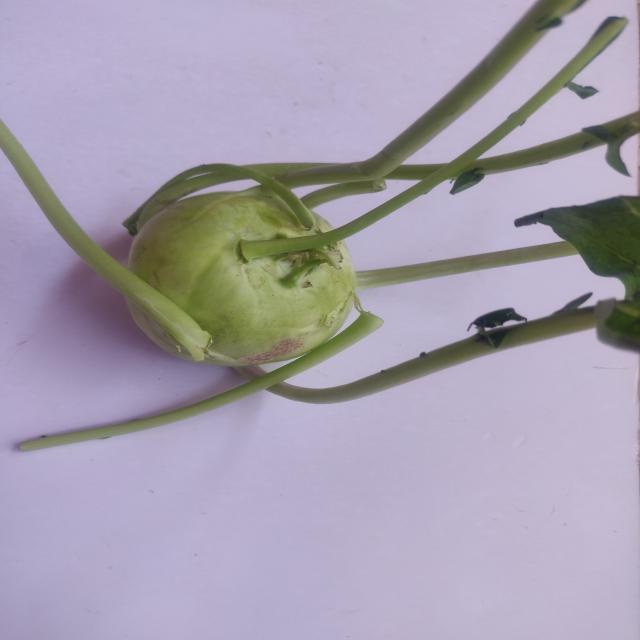Turnip: (43, 117, 564, 435)
